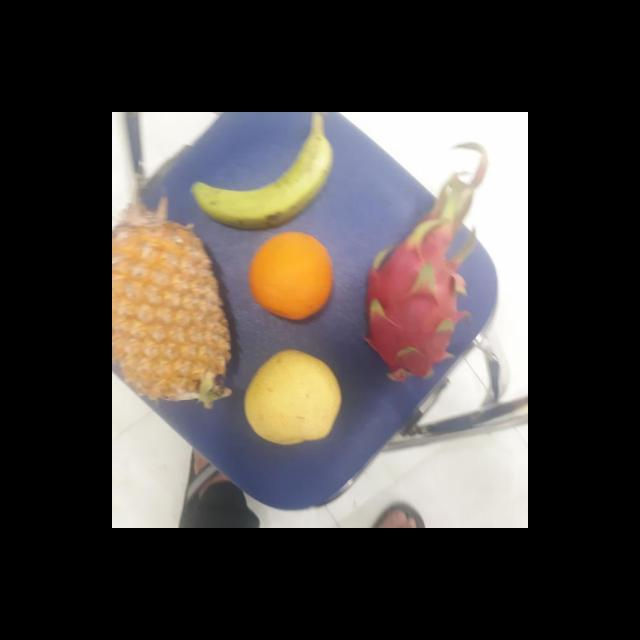banana: (192, 120, 326, 232)
orange: (247, 232, 338, 321)
pear: (240, 350, 346, 448)
pitaya: (359, 208, 494, 379)
